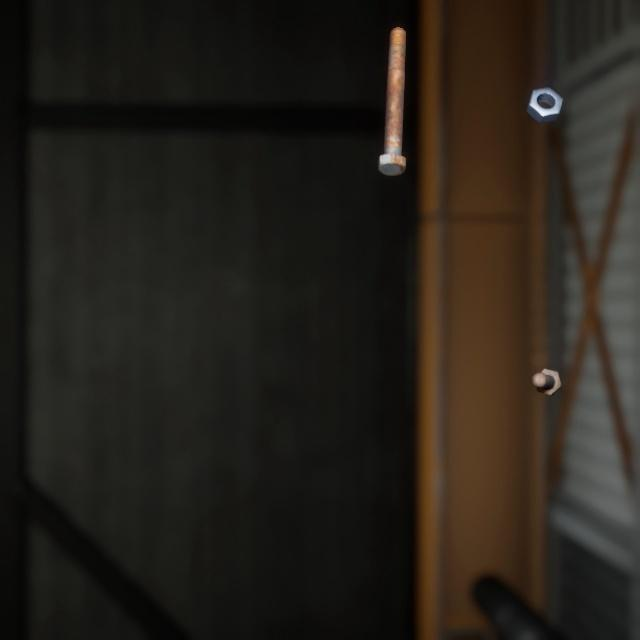bolt: (373, 13, 410, 169), (527, 345, 566, 381)
nut: (522, 71, 567, 115)
